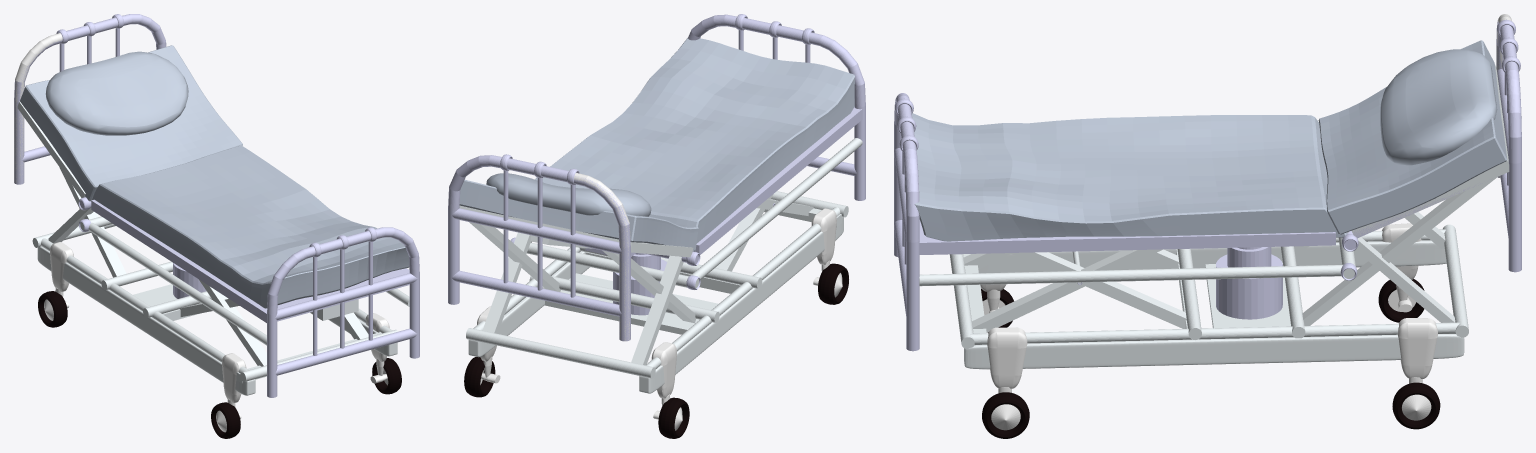
File: hospital_bed.glb
3 views of the same model, side by side, from view 1: azimuth 30°, elevation 25°; view 2: azimuth 150°, elevation 25°; view 3: azimuth 270°, elevation 25° (orthographic). The views are drawn at different scales.
Parts seen in each view (by area): view 1: Cube.011, Torus.004, Cube.018, Mball.001, Cube.025, Torus.013, Cylinder.004; view 2: Cube.011, Cube.018, Torus.004, Mball.001, Torus.013, Cube.025, Cylinder.004; view 3: Cube.011, Cube.018, Torus.004, Mball.001, Cube.025, Torus.013.
Part boxes in pixels (bbox=[...]): Cube.011: bbox=[20, 45, 409, 308]; Torus.004: bbox=[14, 14, 419, 397]; Cube.018: bbox=[17, 101, 409, 395]; Mball.001: bbox=[45, 51, 188, 135]; Cube.025: bbox=[44, 242, 389, 432]; Torus.013: bbox=[38, 291, 401, 438]; Cylinder.004: bbox=[14, 33, 62, 182]; Cube.011: bbox=[459, 38, 854, 251]; Cube.018: bbox=[459, 138, 862, 393]; Torus.004: bbox=[448, 14, 865, 341]; Mball.001: bbox=[486, 173, 651, 216]; Torus.013: bbox=[464, 263, 848, 438]; Cube.025: bbox=[477, 208, 842, 430]; Cylinder.004: bbox=[574, 172, 630, 340]; Cube.011: bbox=[912, 40, 1507, 241]; Cube.018: bbox=[919, 64, 1509, 369]; Torus.004: bbox=[894, 16, 1521, 351]; Mball.001: bbox=[1380, 49, 1497, 165]; Cube.025: bbox=[980, 223, 1437, 430]; Torus.013: bbox=[981, 279, 1440, 438].
Bounding box in the file's own units: 3.11 × 3.82 × 6.55.
